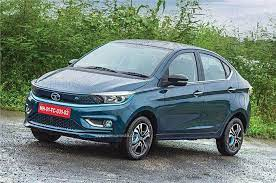Tiago: (24, 37, 255, 162)
